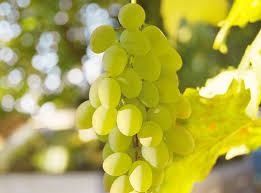grapes: (86, 5, 194, 193)
